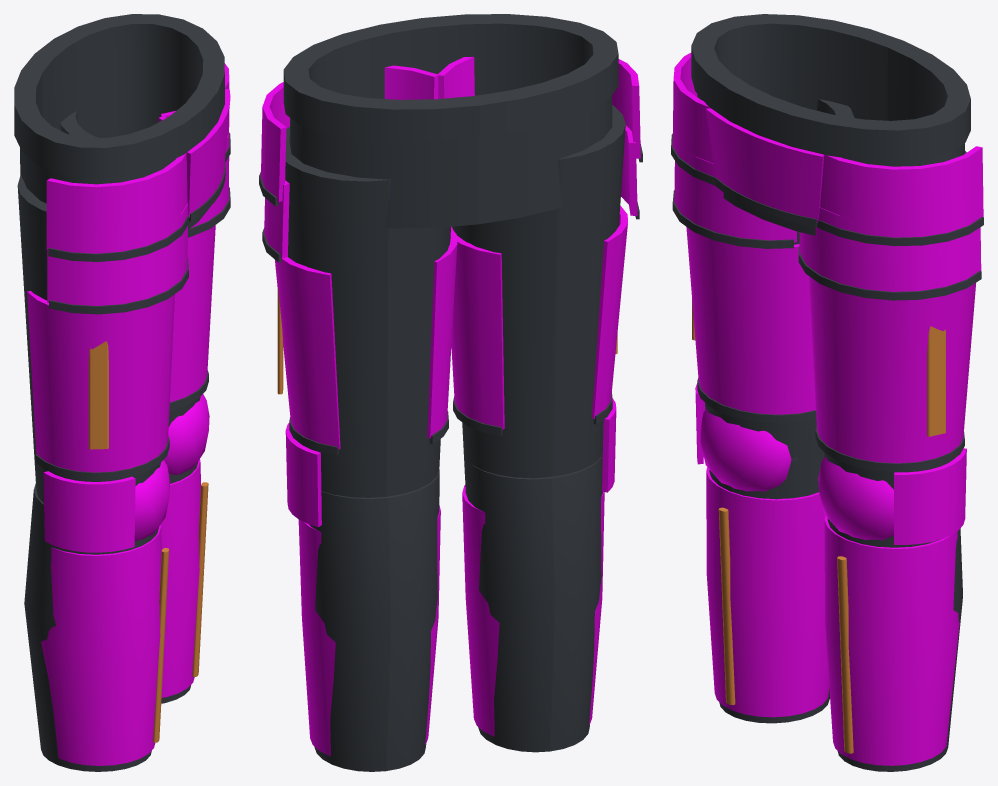
File: objet_armure3_jambieres.glb
3 renders of one model, left to right at view 1: azimuth 30°, elevation 25°; view 2: azimuth 150°, elevation 25°; view 3: azimuth 270°, elevation 25°, orthographic. The views are drawn at different scales.
Parts seen in each view (by area): view 1: cuisse_d__jambieres_teinte.010, jambe_d__jambieres_teinte.010, bassin__jambieres_teinte_sombre.008, jambe_g__jambieres_teinte.010, cuisse_d__jambieres_teinte_sombre.008, cuisse_g__jambieres_teinte.010, jambe_d__jambieres_teinte_sombre.008, bassin__jambieres_teinte.010, cuisse_d__jambieres_composite_bande.002, cuisse_g__jambieres_teinte_sombre.008, jambe_d__jambieres_composite_bande.002, jambe_g__jambieres_composite_bande.002; view 2: bassin__jambieres_teinte_sombre.008, cuisse_g__jambieres_teinte_sombre.008, cuisse_d__jambieres_teinte_sombre.008, jambe_d__jambieres_teinte_sombre.008, jambe_g__jambieres_teinte_sombre.008, cuisse_g__jambieres_teinte.010, cuisse_d__jambieres_teinte.010, jambe_g__jambieres_teinte.010, jambe_d__jambieres_teinte.010; view 3: cuisse_g__jambieres_teinte.010, jambe_g__jambieres_teinte.010, bassin__jambieres_teinte_sombre.008, jambe_d__jambieres_teinte.010, cuisse_d__jambieres_teinte.010, bassin__jambieres_teinte.010, cuisse_d__jambieres_teinte_sombre.008, cuisse_g__jambieres_teinte_sombre.008, jambe_g__jambieres_teinte_sombre.008, cuisse_g__jambieres_composite_bande.002, jambe_d__jambieres_composite_bande.002, jambe_g__jambieres_composite_bande.002 (+1 smaller).
Boxes of the visible parts, box(x1,y1,x2,y2) form: cuisse_d__jambieres_teinte.010: box(27, 116, 188, 472); jambe_d__jambieres_teinte.010: box(41, 460, 170, 765); bassin__jambieres_teinte_sombre.008: box(14, 14, 225, 229); jambe_g__jambieres_teinte.010: box(160, 394, 209, 697); cuisse_d__jambieres_teinte_sombre.008: box(17, 175, 188, 554); cuisse_g__jambieres_teinte.010: box(161, 63, 229, 402); jambe_d__jambieres_teinte_sombre.008: box(24, 483, 158, 771); bassin__jambieres_teinte.010: box(186, 88, 230, 217); cuisse_d__jambieres_composite_bande.002: box(88, 341, 108, 449); cuisse_g__jambieres_teinte_sombre.008: box(60, 111, 230, 426); jambe_d__jambieres_composite_bande.002: box(153, 548, 169, 742); jambe_g__jambieres_composite_bande.002: box(192, 482, 208, 676); bassin__jambieres_teinte_sombre.008: box(283, 14, 618, 228); cuisse_g__jambieres_teinte_sombre.008: box(259, 127, 450, 497); cuisse_d__jambieres_teinte_sombre.008: box(452, 105, 642, 491); jambe_d__jambieres_teinte_sombre.008: box(465, 453, 602, 752); jambe_g__jambieres_teinte_sombre.008: box(309, 469, 439, 771); cuisse_g__jambieres_teinte.010: box(261, 65, 457, 449); cuisse_d__jambieres_teinte.010: box(437, 56, 640, 429); jambe_g__jambieres_teinte.010: box(285, 423, 440, 756); jambe_d__jambieres_teinte.010: box(462, 398, 616, 736); cuisse_g__jambieres_teinte.010: box(799, 146, 983, 463); jambe_g__jambieres_teinte.010: box(818, 448, 966, 765); bassin__jambieres_teinte_sombre.008: box(691, 14, 970, 235); jambe_d__jambieres_teinte.010: box(695, 383, 829, 717); cuisse_d__jambieres_teinte.010: box(672, 53, 815, 414); bassin__jambieres_teinte.010: box(706, 108, 824, 222); cuisse_d__jambieres_teinte_sombre.008: box(671, 99, 854, 498); cuisse_g__jambieres_teinte_sombre.008: box(798, 151, 983, 547); jambe_g__jambieres_teinte_sombre.008: box(827, 518, 962, 771); cuisse_g__jambieres_composite_bande.002: box(927, 326, 945, 436); jambe_d__jambieres_composite_bande.002: box(718, 507, 735, 704); jambe_g__jambieres_composite_bande.002: box(837, 556, 853, 753).
Bounding box in the file's own units: 0.133 × 0.3113 × 0.1351.
